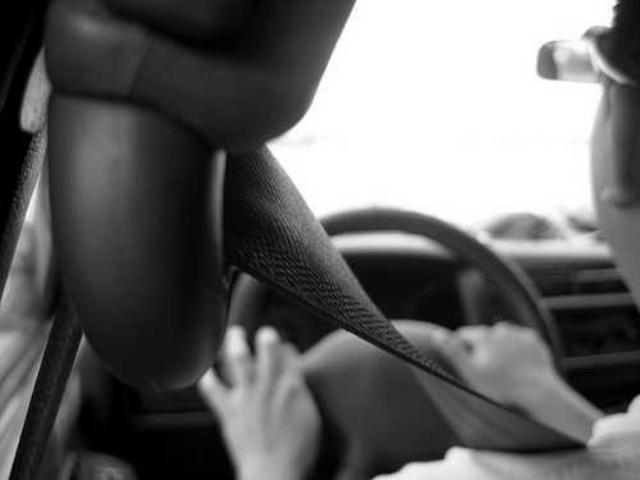Seatbelt: (152, 127, 596, 459)
